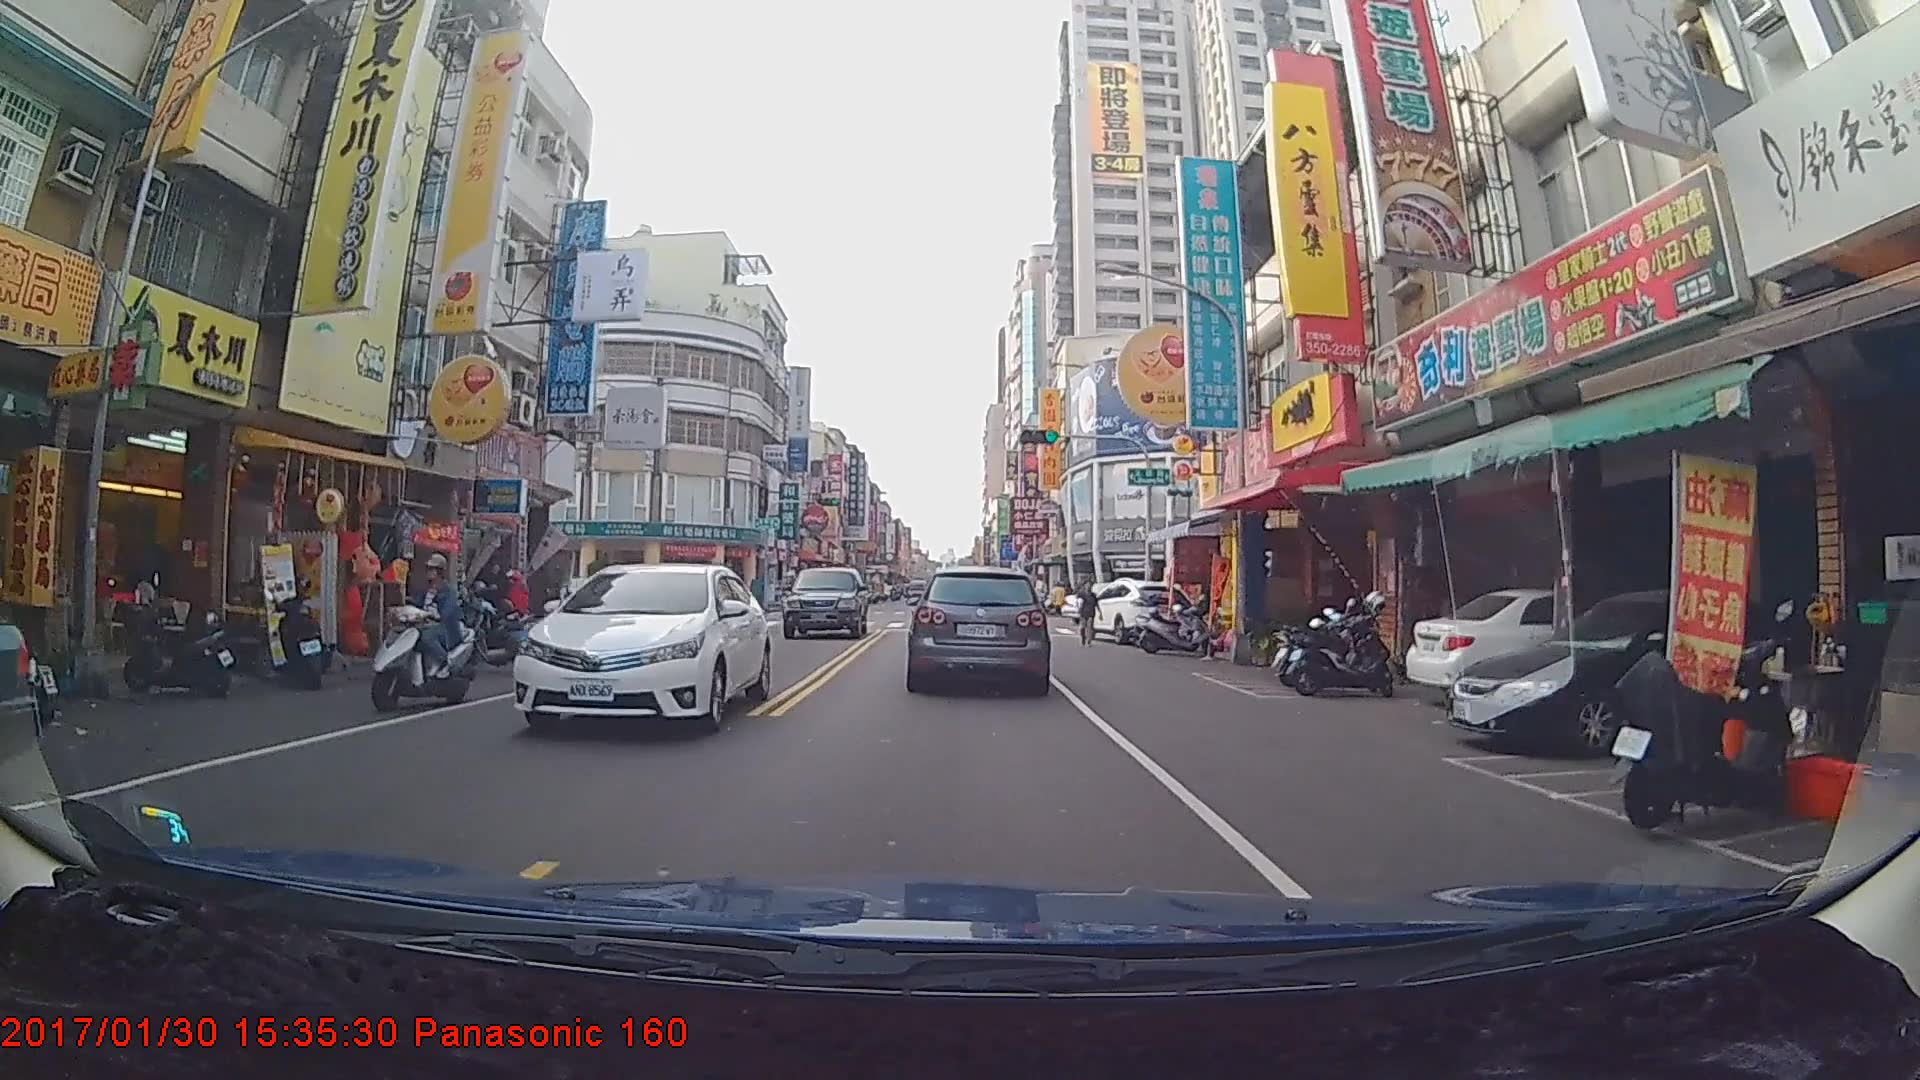pedestrian: (1077, 580, 1100, 650)
rider: (361, 558, 486, 719)
vehicle: (1448, 584, 1846, 760), (505, 564, 768, 741), (906, 565, 1050, 692), (1079, 576, 1199, 643), (782, 565, 870, 641), (905, 578, 930, 605)
